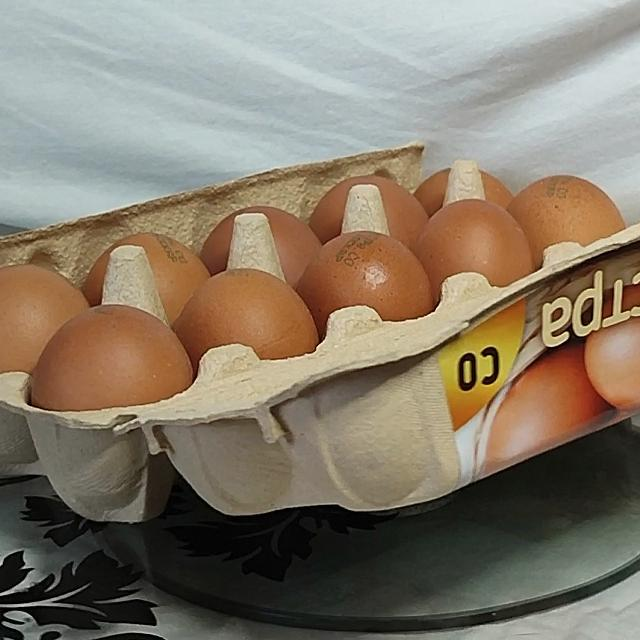egg: (0, 119, 640, 534)
